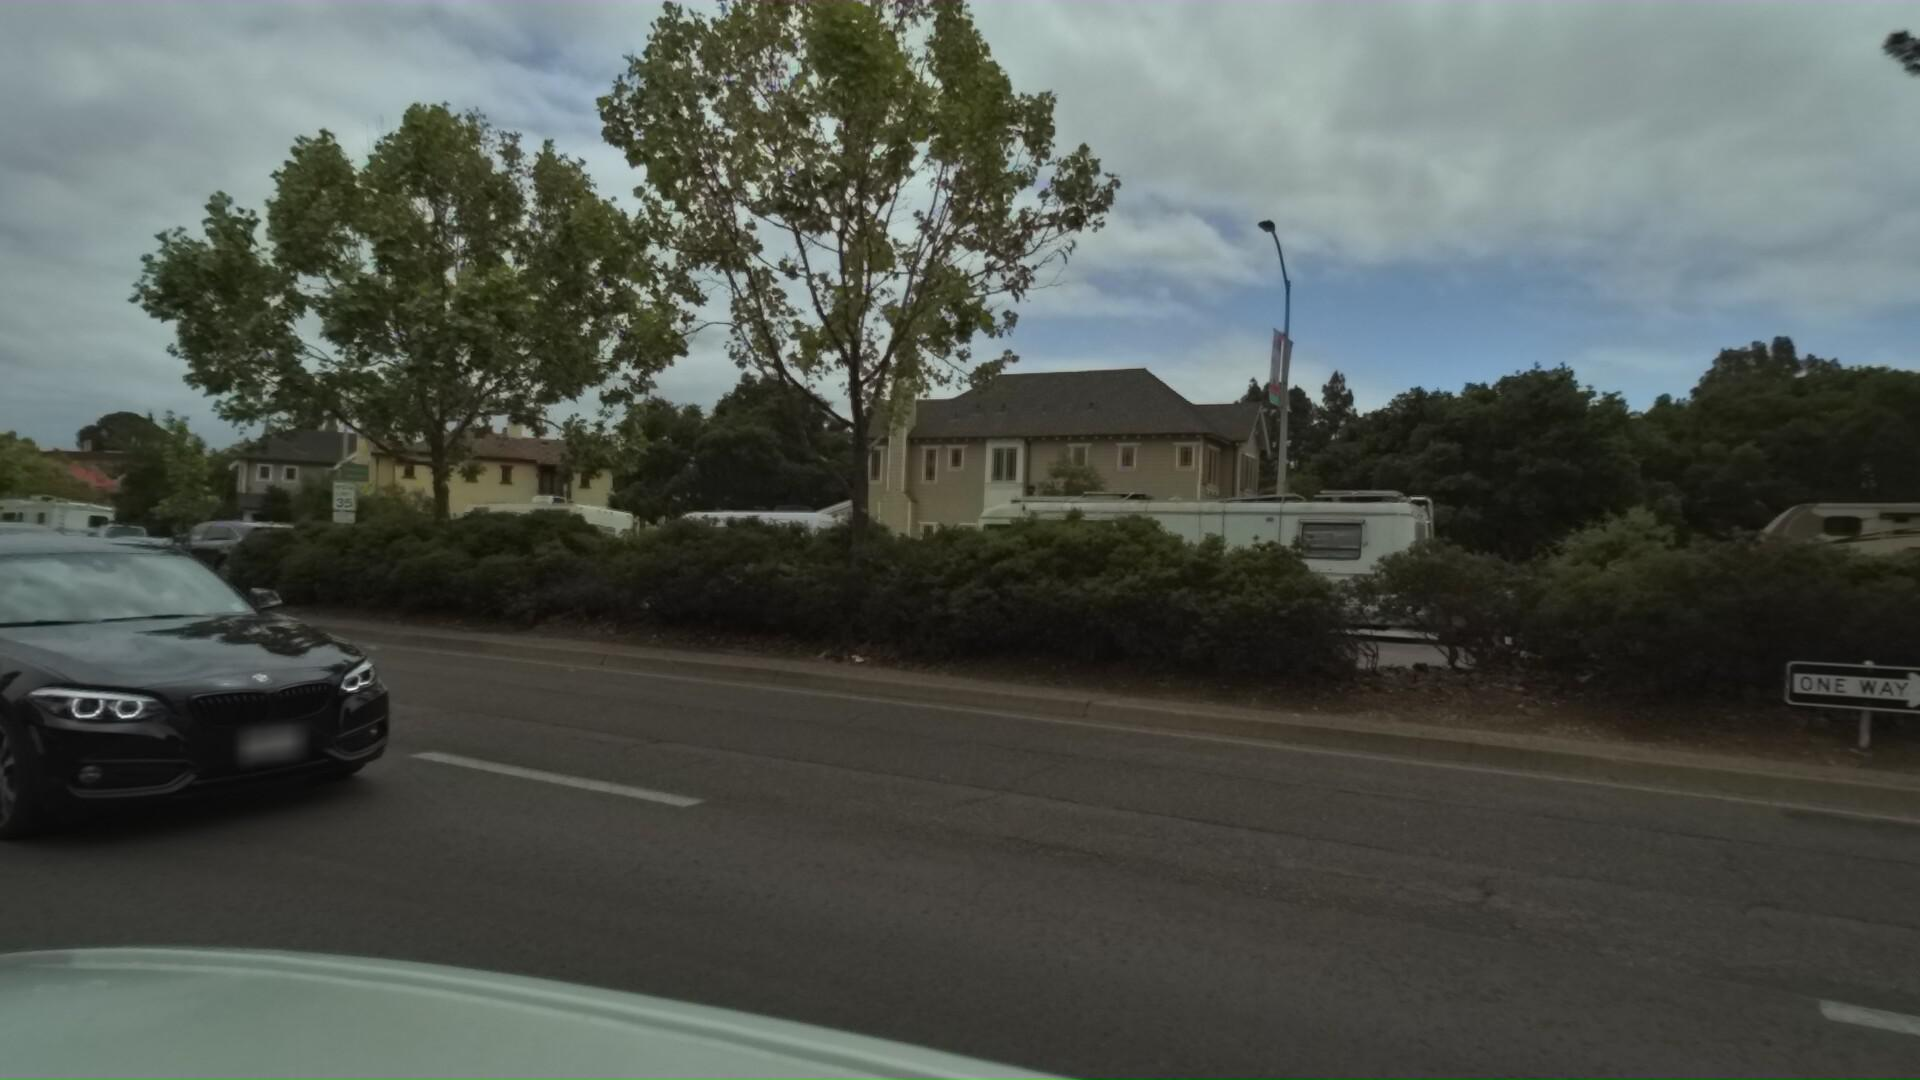car: (0, 480, 459, 874), (597, 496, 849, 609), (0, 487, 141, 647), (131, 516, 297, 589), (66, 512, 181, 567)
other_vehicle: (920, 473, 1416, 650), (1651, 469, 1920, 731), (433, 491, 640, 593), (0, 487, 121, 562)
